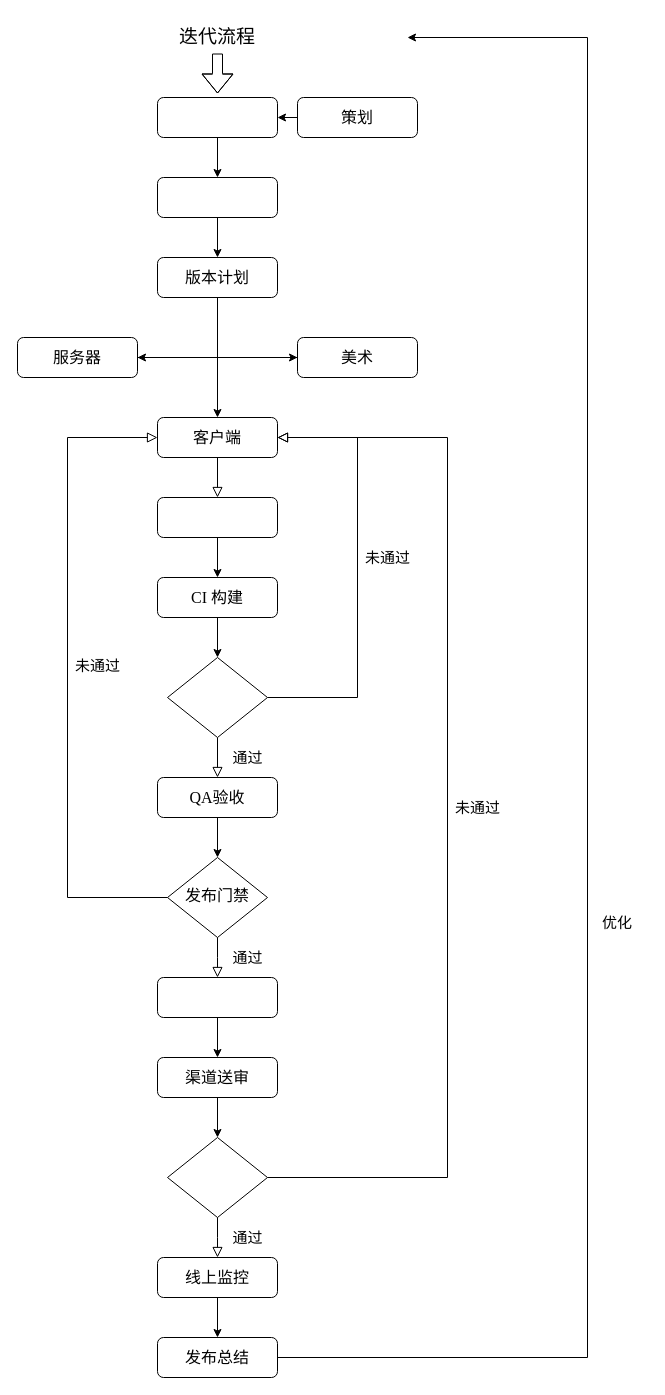
This 665x1395 diagram has some shape labels left out. The centre of each missing label's shape, as x and y in pixels:
单元测试代码评审: the point at 217,517
提审清单检查: the point at 217,997
提测门禁: the point at 217,697
渠道审核: the point at 217,1177
需求池: the point at 217,117
需求评审: the point at 217,197
